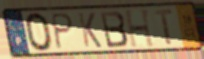B: (98, 10, 129, 49)
H: (123, 8, 157, 49)
K: (76, 12, 103, 49)
O: (23, 12, 55, 54)
P: (50, 12, 75, 51)
T: (153, 8, 174, 47)
